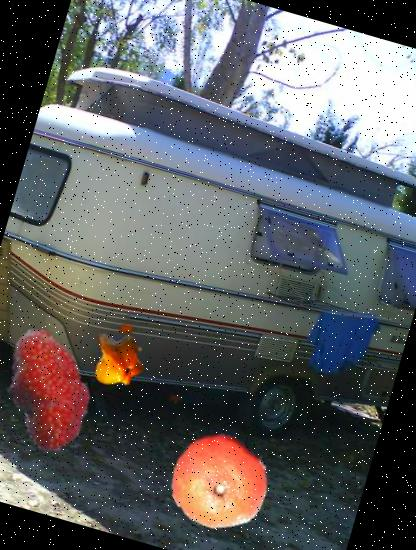Carambula: (84, 325, 152, 394)
Clementine: (158, 420, 282, 544)
Strawberry: (0, 312, 124, 467)
